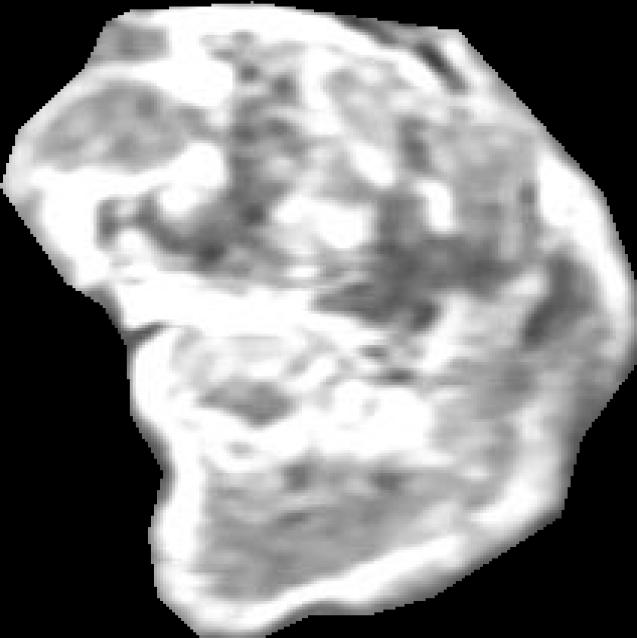tumor_moderate_chance: (0, 1, 637, 638)
